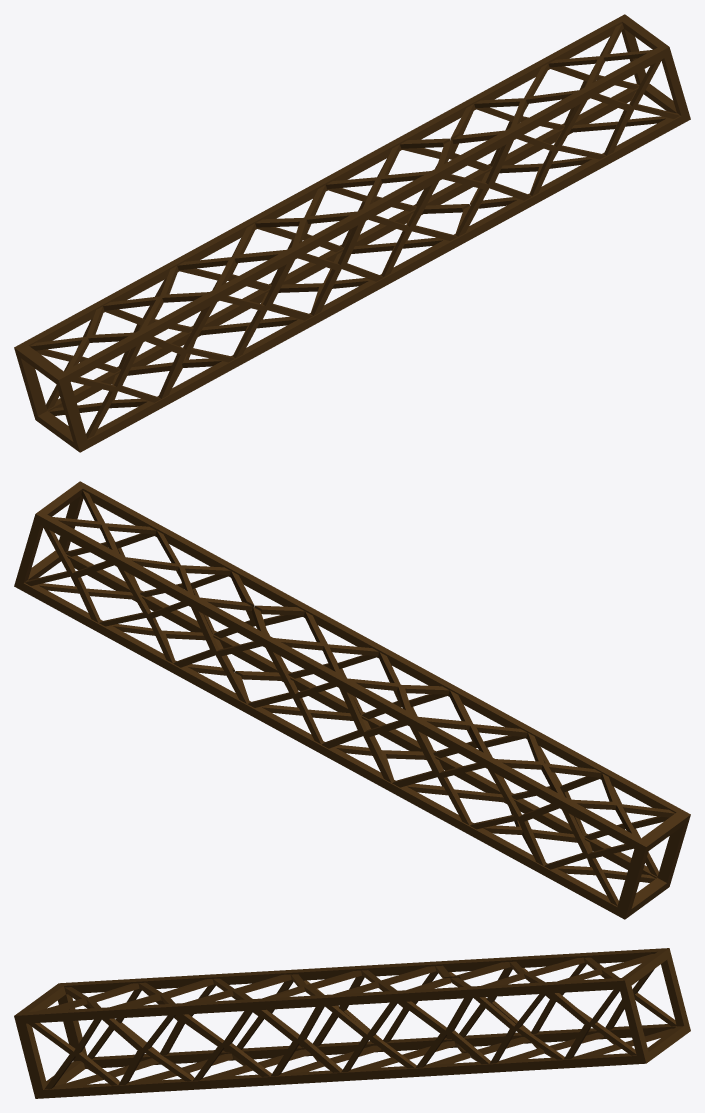
File: Heup Links Achter balk achter_onder.fbx
The picture shows the model from 3 angles, top to bottom: view 1: azimuth 30°, elevation 25°; view 2: azimuth 150°, elevation 25°; view 3: azimuth 330°, elevation 25°; orthographic projection.
Parts seen in each view (by area): view 1: Metalen paal.006; view 2: Metalen paal.006; view 3: Metalen paal.006.
Part boxes in pixels (left/top/right/bottom): Metalen paal.006: left=14, top=14, right=690, bottom=452; Metalen paal.006: left=14, top=481, right=690, bottom=919; Metalen paal.006: left=14, top=948, right=690, bottom=1098.
Size of the model in its own units: 762 by 302 by 93.22.
